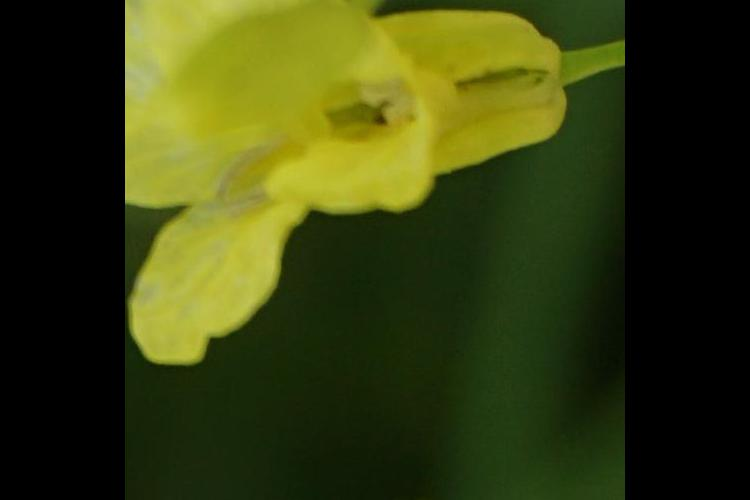yellow: (149, 1, 568, 281)
